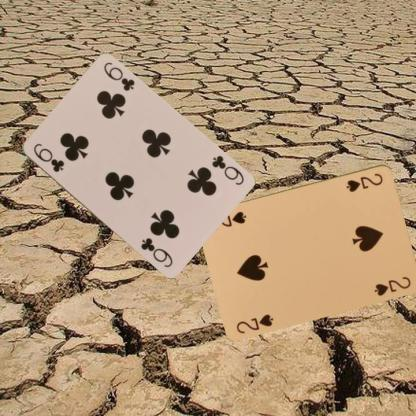2s: (234, 311, 275, 334), (344, 170, 384, 193)
6c: (209, 152, 245, 186), (30, 140, 65, 174)
